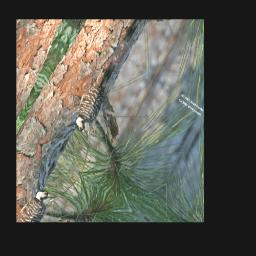Woodpecker: (62, 49, 127, 139)
